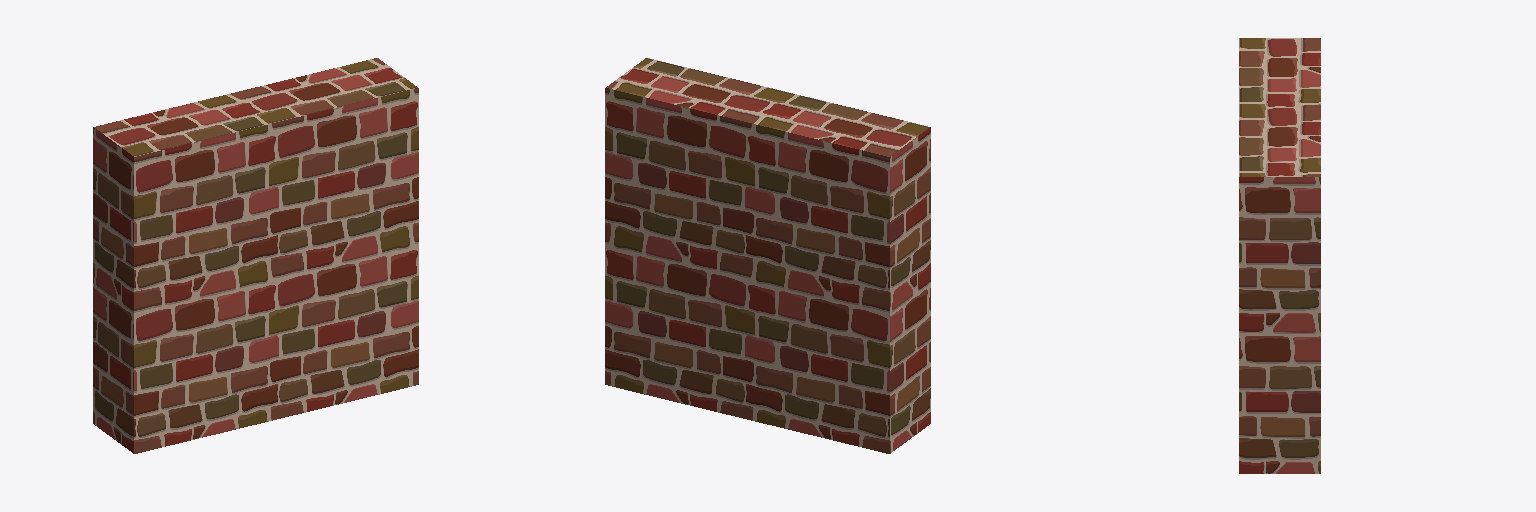
The picture shows the model from 3 angles: view 1: azimuth 30°, elevation 25°; view 2: azimuth 150°, elevation 25°; view 3: azimuth 270°, elevation 25°; orthographic projection.
Parts seen in each view (by area): view 1: Cube.003; view 2: Cube.003; view 3: Cube.003.
Boxes of the visible parts, x1=… form: Cube.003: x1=93, y1=58, x2=418, y2=453; Cube.003: x1=605, y1=58, x2=930, y2=453; Cube.003: x1=1239, y1=38, x2=1320, y2=473.
Size of the model in its own units: 2 by 2 by 0.5.
1 materials, 1 textured.